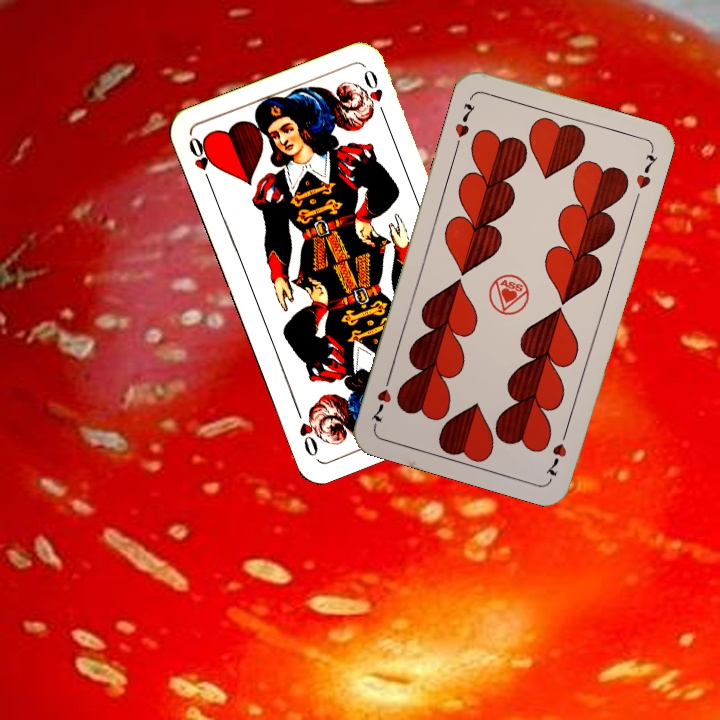H7: (541, 424, 571, 481), (451, 99, 478, 151)
HO: (184, 133, 217, 189)
